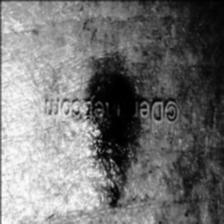Potentially Malignant Skin Tumors: (87, 120, 133, 204), (84, 76, 134, 102)
